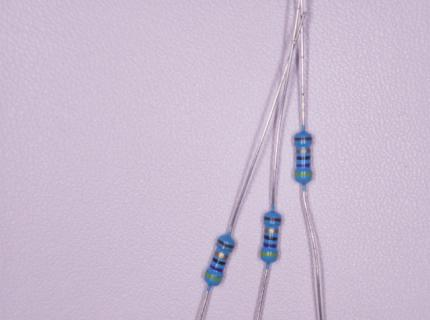Black band: (212, 257, 226, 266), (264, 235, 278, 241), (297, 156, 311, 160)
Brown band: (218, 239, 234, 248), (264, 216, 282, 222), (294, 138, 312, 141)
Gold band: (214, 250, 229, 261), (264, 228, 279, 234), (296, 149, 311, 153)
Violet band: (209, 263, 224, 273), (263, 243, 277, 248), (296, 163, 311, 167)
Yellow band: (204, 271, 221, 283), (260, 252, 278, 257), (295, 172, 312, 177)
